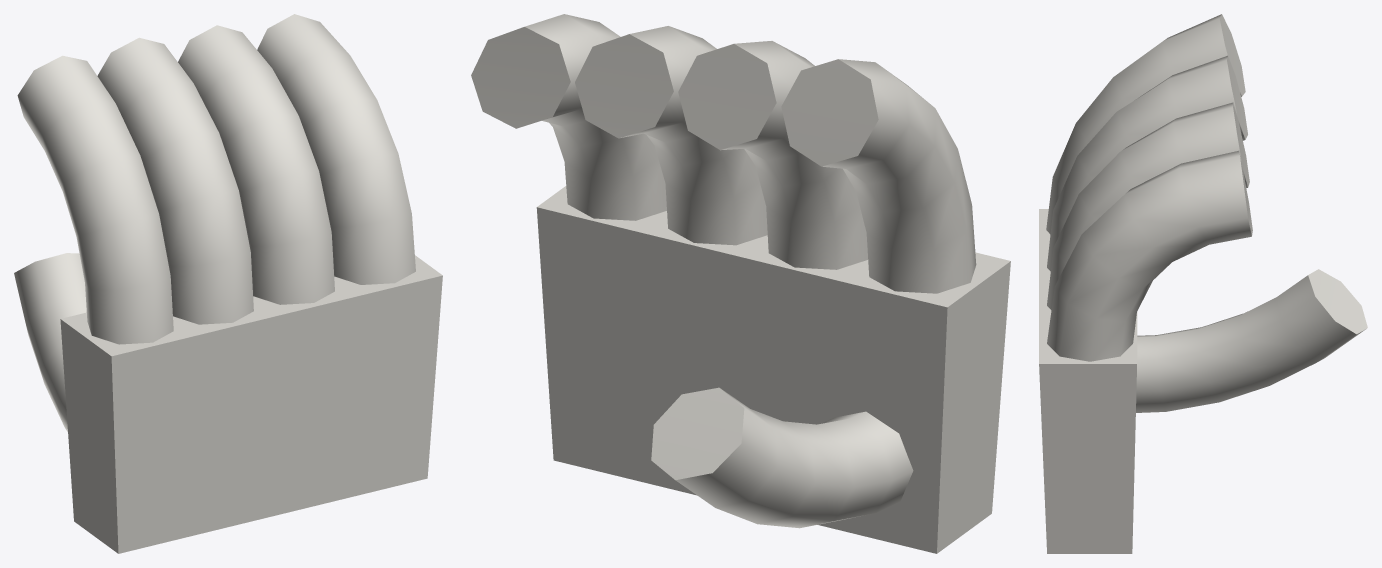
The model's file is sci14.glb.
The picture shows the model from 3 angles, left to right: view 1: azimuth 30°, elevation 25°; view 2: azimuth 150°, elevation 25°; view 3: azimuth 270°, elevation 25°; orthographic projection. The views are drawn at different scales.
Parts seen in each view (by area): view 1: node_id173, node_id169, node_id167, node_id171; view 2: node_id173, node_id169, node_id167, node_id171; view 3: node_id169, node_id173, node_id171, node_id167.
Part boxes in pixels (<box>): node_id173: <box>60,255,442,553</box>; node_id169: <box>97,14,415,324</box>; node_id167: <box>17,55,173,344</box>; node_id171: <box>14,253,86,431</box>; node_id173: <box>536,186,1010,553</box>; node_id169: <box>471,14,868,269</box>; node_id167: <box>781,59,976,293</box>; node_id171: <box>651,387,913,528</box>; node_id169: <box>1047,55,1252,361</box>; node_id173: <box>1039,209,1137,553</box>; node_id171: <box>1136,269,1367,412</box>; node_id167: <box>1046,14,1245,234</box>.
Bounding box in the file's own units: 0.4186 × 0.512 × 0.3751.
4 materials, 4 textured.
